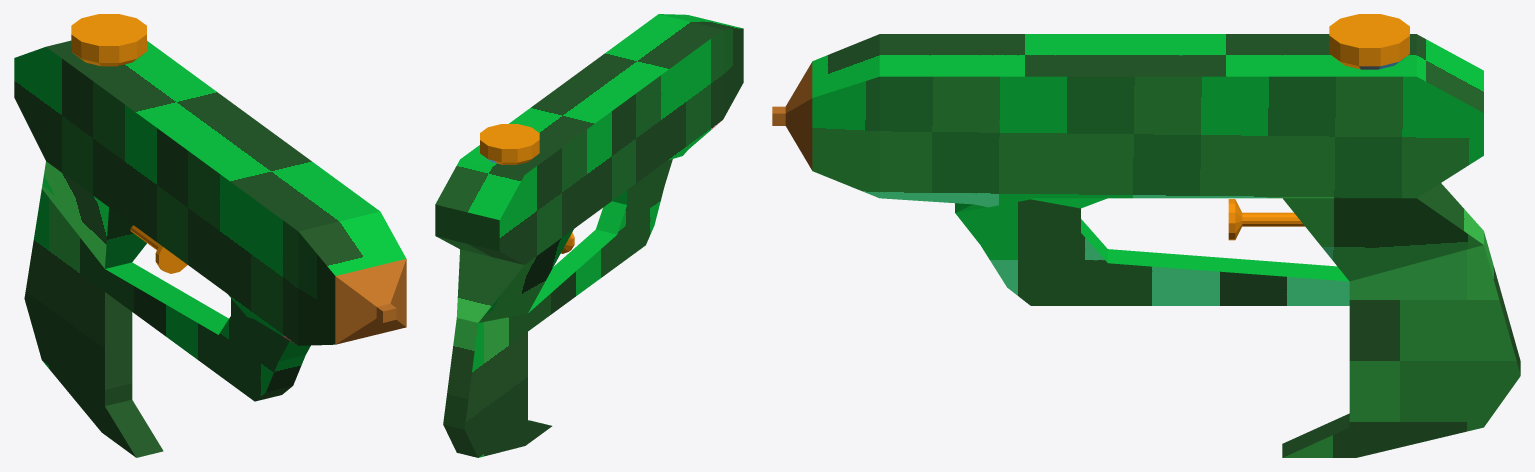
File: waterpistol.gltf
3 views of the same model, side by side, from view 1: azimuth 30°, elevation 25°; view 2: azimuth 150°, elevation 25°; view 3: azimuth 270°, elevation 25° (orthographic). The views are drawn at different scales.
Visible parts, largest first — view 1: mesh, cylinder (×2); view 2: mesh, cylinder; view 3: mesh, cylinder (×2).
Part boxes in pixels (<box>): mesh: <box>14,40,406,457</box>; cylinder (×2): <box>71,14,187,273</box>; mesh: <box>435,14,743,457</box>; cylinder: <box>480,124,539,164</box>; mesh: <box>772,34,1520,457</box>; cylinder (×2): <box>1228,14,1409,240</box>.
Size of the model in its own units: 0.0938 by 0.4313 by 0.6969.
3 materials, 3 textured.
